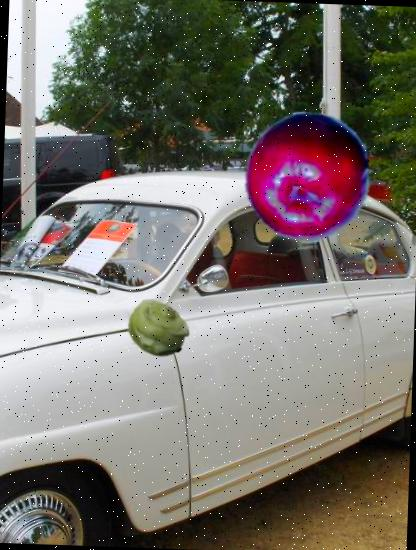Kohlrabi: (126, 298, 190, 362)
Plum: (239, 109, 376, 246)
